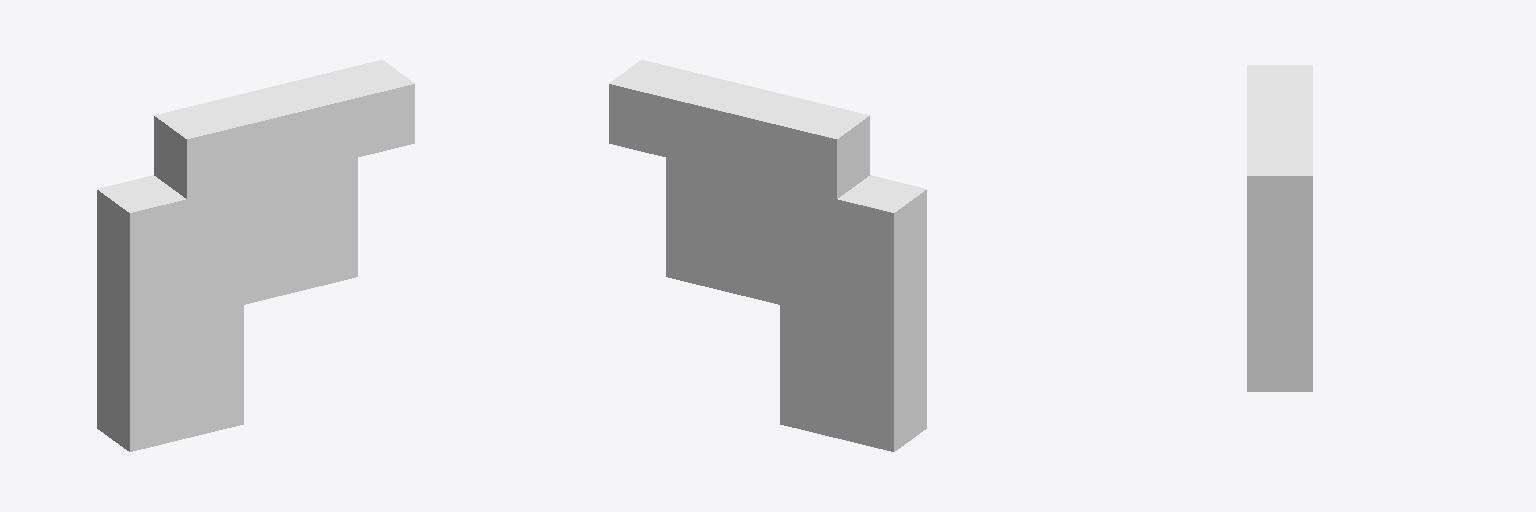
The model's file is YellowHouseParts-105.obj.
3 views of the same model, side by side, from view 1: azimuth 30°, elevation 25°; view 2: azimuth 150°, elevation 25°; view 3: azimuth 270°, elevation 25° (orthographic).
Visible parts, largest first — view 1: object 1; view 2: object 1; view 3: object 1.
Boxes of the visible parts, x1=… form: object 1: x1=97, y1=60, x2=414, y2=451; object 1: x1=609, y1=60, x2=926, y2=451; object 1: x1=1247, y1=65, x2=1312, y2=391.
Size of the model in its own units: 0.5 by 0.5 by 0.1.